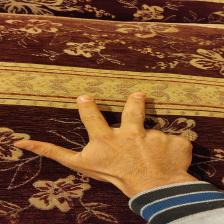three: (17, 91, 204, 187)
